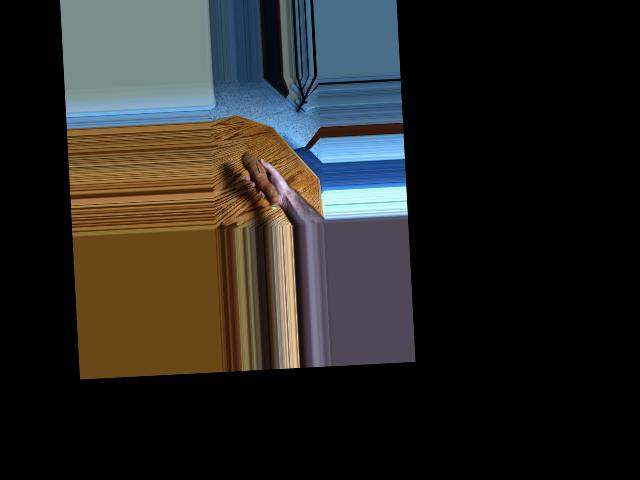sweet_potato: (240, 148, 283, 211)
